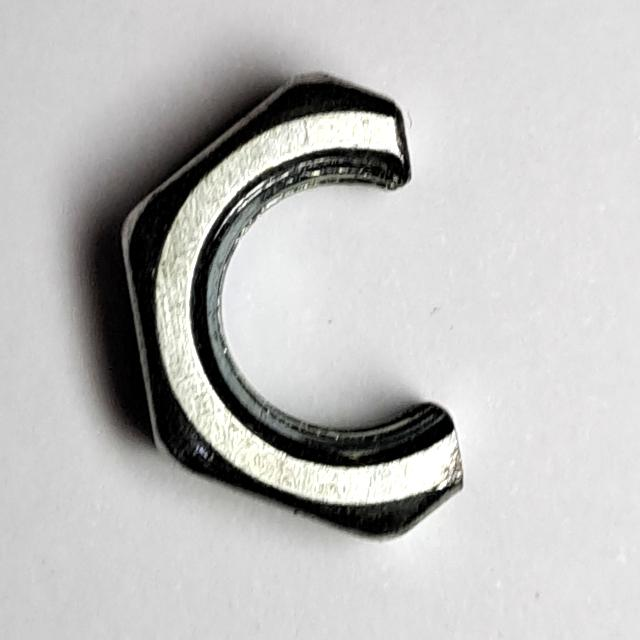Fracture: (104, 60, 494, 552)
